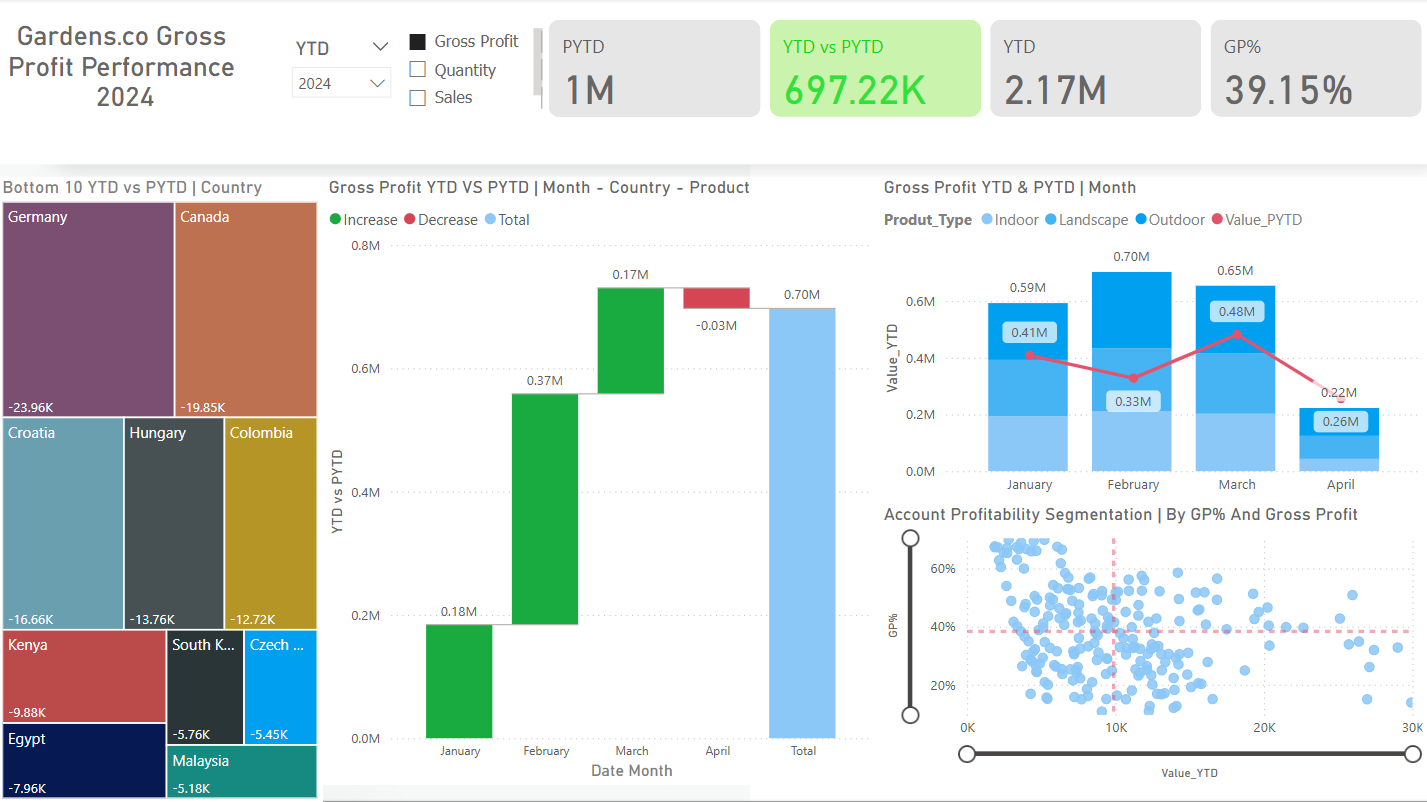

This screenshot's page, from the dashboard's own definition file:
{"tool":"powerbi","page":{"name":"Performance_report","canvas":[1280,720],"ordinal":0},"visuals":[{"type":"cardVisual","fields":{"Data":["formulas.sl_PYTD","formulas.YTD vs PYTD","formulas.sl_YTD","formulas.GP%"]},"box":[488,14.5,792.8,97.1],"z":0},{"type":"slicer","fields":{"Values":["slicer_values.Values"]},"box":[358.4,24.6,129.5,78.2],"z":1000},{"type":"slicer","fields":{"Values":["date_data.Date.Variation.Date Hierarchy.Year"]},"box":[254.6,31.3,103.8,64.8],"z":2000},{"type":"treemap","title":"Bottom 10 YTD vs PYTD | Country","fields":{"Values":["formulas.YTD vs PYTD"],"Group":["Accounts_data.country"]},"box":[0,159.7,291.4,560.5],"z":3000},{"type":"waterfallChart","fields":{"Y":["formulas.YTD vs PYTD"],"Category":["date_data.Date.Variation.Date Hierarchy.Month","Accounts_data.country","product_data.Produt_Type","product_data.Product_Name"]},"box":[291.8,159.4,495.3,543.1],"z":4000},{"type":"lineStackedColumnComboChart","fields":{"Y":["formulas.sl_YTD"],"Y2":["formulas.sl_PYTD"],"Category":["date_data.Date.Variation.Date Hierarchy.Month","date_data.Date.Variation.Date Hierarchy.Quarter"],"Series":["product_data.Produt_Type"]},"box":[787.1,159.4,492.9,293],"z":5000},{"type":"scatterChart","fields":{"Y":["formulas.GP%"],"X":["formulas.sl_YTD"],"Category":["Accounts_data.Account"]},"box":[787.4,452.3,492.3,250.6],"z":5001},{"type":"card","fields":{"Values":["formulas.Report_title"]},"box":[0,7.8,228.9,103.8],"z":5002}]}

Visuals, with their boxes in screenshot pixels (x1, y1, x2, y2), scaled from the page's 1280x720 canvas onto the 1427x802 screenshot:
cardVisual - formulas.sl_PYTD x formulas.YTD vs PYTD: BBox(544, 16, 1426, 124)
slicer - slicer_values.Values: BBox(400, 27, 544, 115)
slicer - date_data.Date.Variation.Date Hierarchy.Year: BBox(284, 35, 400, 107)
"Bottom 10 YTD vs PYTD | Country" treemap: BBox(0, 178, 325, 801)
waterfallChart - formulas.YTD vs PYTD x date_data.Date.Variation.Date Hierarchy.Month: BBox(325, 178, 877, 783)
lineStackedColumnComboChart - formulas.sl_YTD x formulas.sl_PYTD: BBox(877, 178, 1426, 504)
scatterChart - formulas.GP% x formulas.sl_YTD: BBox(878, 504, 1426, 783)
card - formulas.Report_title: BBox(0, 9, 255, 124)
